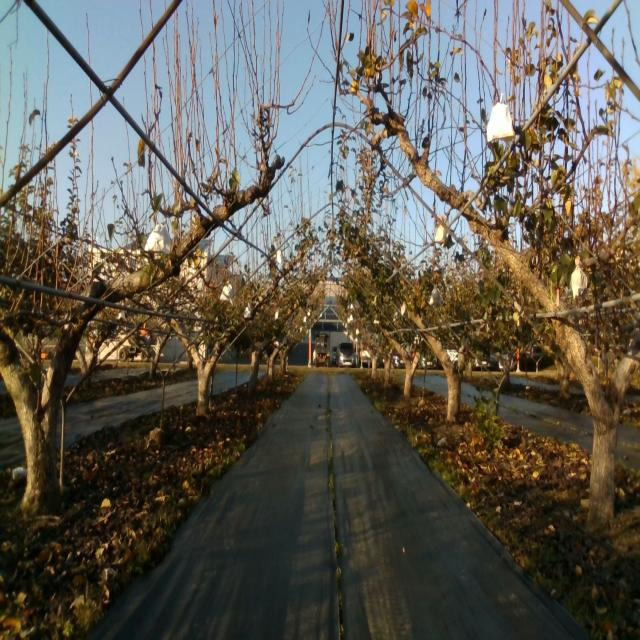pearbags: (485, 92, 517, 142), (145, 220, 173, 255), (570, 259, 588, 296), (220, 280, 233, 304), (429, 286, 441, 306), (435, 224, 446, 244)
